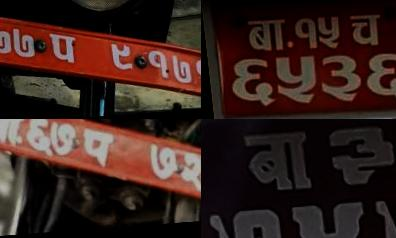0: (239, 130, 313, 196)
1: (292, 17, 319, 54), (145, 53, 169, 84), (192, 60, 201, 94)
2: (176, 154, 201, 198)
3: (315, 55, 362, 109)
5: (284, 200, 368, 238), (271, 55, 321, 107), (314, 13, 343, 53)
6: (226, 56, 273, 111), (361, 54, 396, 101), (22, 119, 51, 160)
7: (202, 207, 285, 238), (137, 145, 179, 188), (47, 119, 78, 162), (10, 26, 38, 61), (168, 57, 192, 92), (0, 22, 11, 53)
9: (106, 46, 136, 76)
ba: (324, 124, 396, 189), (244, 18, 286, 57), (0, 119, 25, 151)
cha: (347, 14, 382, 52)
pa: (79, 127, 118, 175), (42, 31, 80, 69)
